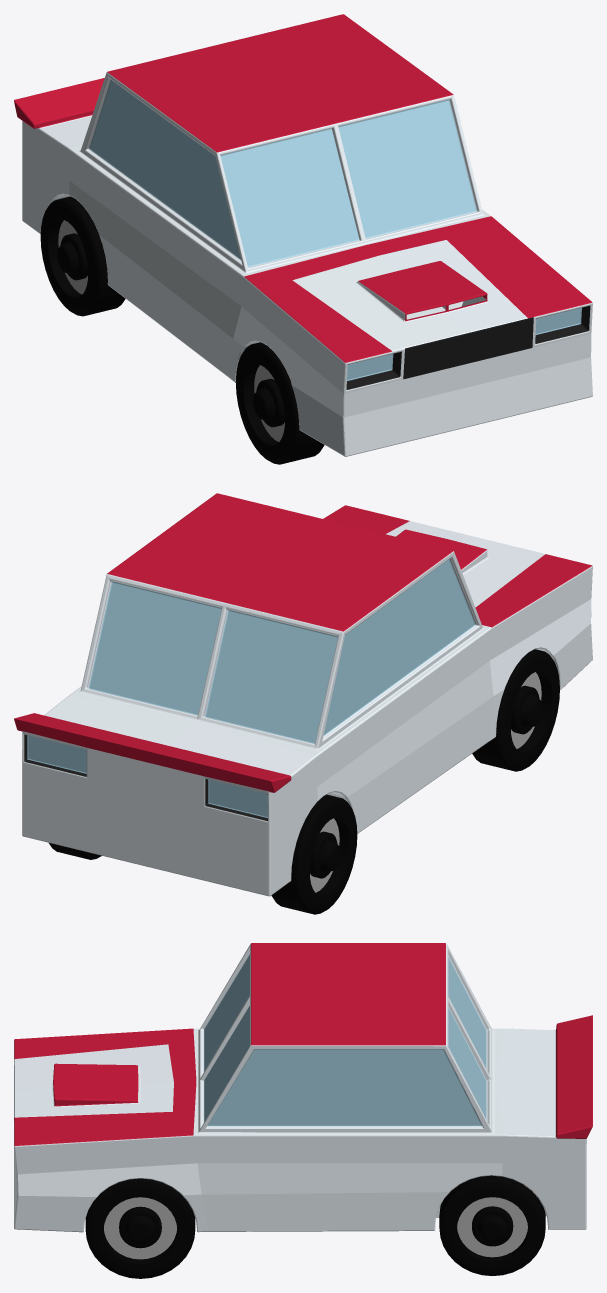
File: Car.fbx
The picture shows the model from 3 angles, top to bottom: view 1: azimuth 30°, elevation 25°; view 2: azimuth 150°, elevation 25°; view 3: azimuth 270°, elevation 25°; orthographic projection. The views are drawn at different scales.
Visible parts, largest first — view 1: Body, BRW, FRW; view 2: Body, BRW, FRW; view 3: Body, FLW, BLW.
Boxes of the visible parts, <box> form: Body: <box>14,14,592,456</box>; BRW: <box>40,196,125,316</box>; FRW: <box>235,342,324,464</box>; Body: <box>14,493,592,896</box>; BRW: <box>271,794,357,914</box>; FRW: <box>472,649,559,771</box>; Body: <box>14,943,592,1232</box>; FLW: <box>85,1178,195,1278</box>; BLW: <box>439,1175,545,1275</box>.
Size of the model in its own units: 223 by 200 by 456.
